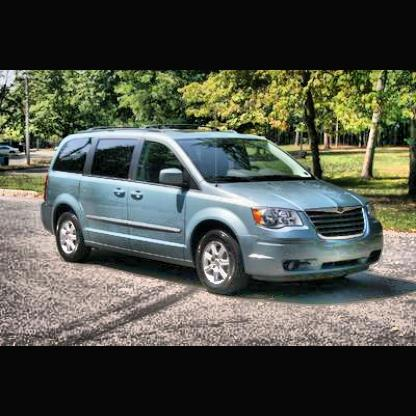Chrysler Town and Country Minivan 2012: (39, 124, 388, 296)
